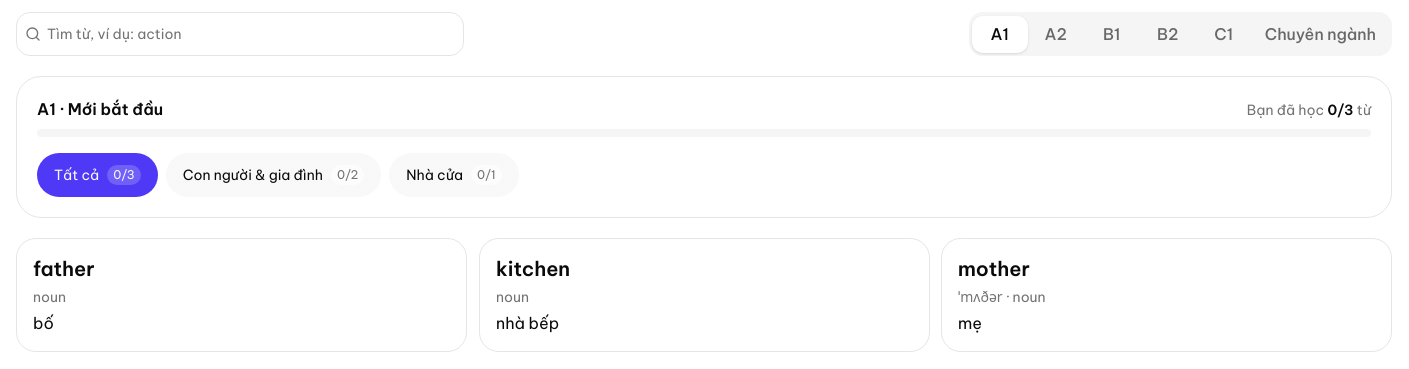
Scenario: VocabularyBrowser › specialized vocabulary sets (feature 012) › offers Chuyên ngành next to the levels and lists the sets with their progress (AC-001, AC-002)
Check: the element named "Danh sách từ" is shown, box x1=16 y1=238 x2=1392 y2=352
Click the tab "Chuyên ngành" at (1320, 34), box x1=1252 y1=16 x2=1389 y2=52
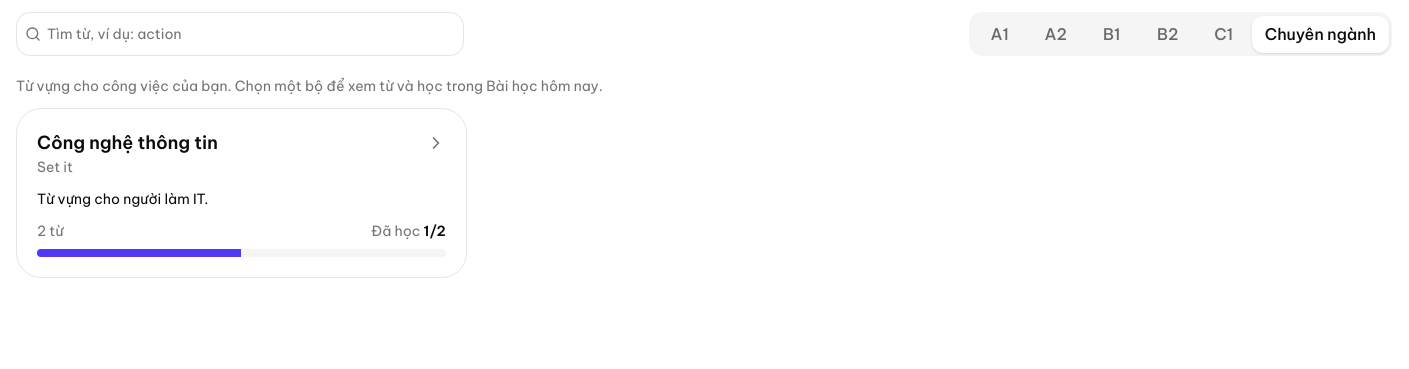
Check: the text "Từ vựng cho người làm IT." is shown, box x1=37 y1=190 x2=208 y2=208
Check: the text "2 từ" is shown, box x1=37 y1=221 x2=64 y2=241
Check: the text "1/2" is shown, box x1=424 y1=222 x2=446 y2=240
